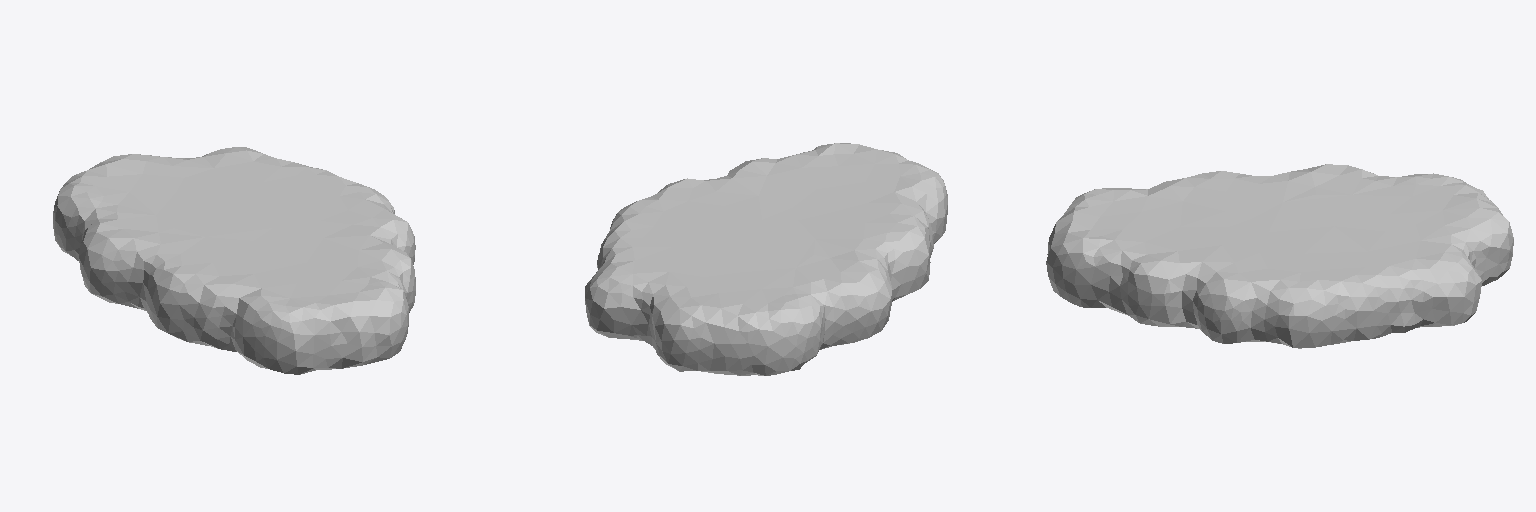
Rendered from CavePlatform2_3.obj.
3 views of the same model, side by side, from view 1: azimuth 30°, elevation 25°; view 2: azimuth 150°, elevation 25°; view 3: azimuth 270°, elevation 25° (orthographic).
Parts seen in each view (by area): view 1: CavePlatform2-3; view 2: CavePlatform2-3; view 3: CavePlatform2-3.
Boxes of the visible parts, x1,y1,x2,y2 form: CavePlatform2-3: [53, 147, 415, 374]; CavePlatform2-3: [585, 143, 947, 375]; CavePlatform2-3: [1046, 164, 1513, 348].
Size of the model in its own units: 28.41 by 6.23 by 39.95.